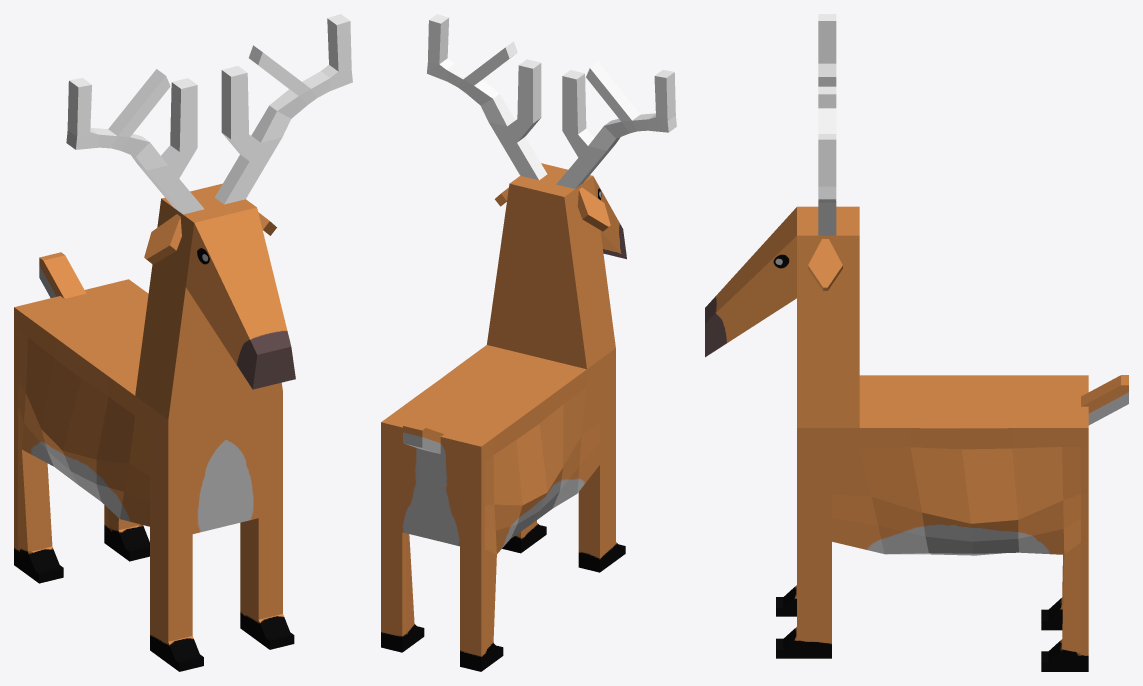
Rendered from deer.fbx.
3 views of the same model, side by side, from view 1: azimuth 30°, elevation 25°; view 2: azimuth 150°, elevation 25°; view 3: azimuth 270°, elevation 25° (orthographic). The views are drawn at different scales.
Parts seen in each view (by area): view 1: deer; view 2: deer; view 3: deer.
Part boxes in pixels (x1,y1,x2,y2): deer: (14,14,352,671); deer: (381,14,676,671); deer: (705,14,1128,671).
Bounding box in the file's own units: 196 × 140 × 290.
